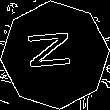N_E: (28, 33, 82, 77)
